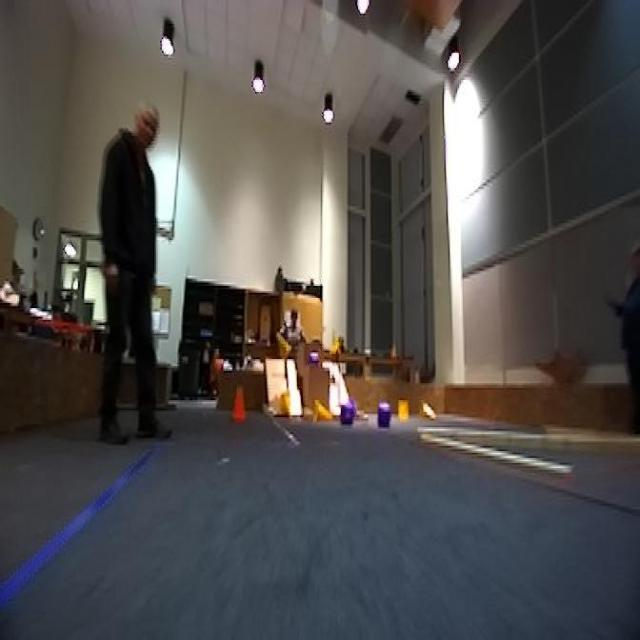frc_cone: (270, 322, 290, 362), (417, 404, 442, 426), (312, 400, 332, 422), (396, 395, 410, 422), (328, 327, 341, 356), (280, 390, 292, 420)
frc_cube: (341, 403, 354, 424), (307, 352, 321, 370), (377, 407, 388, 424)
